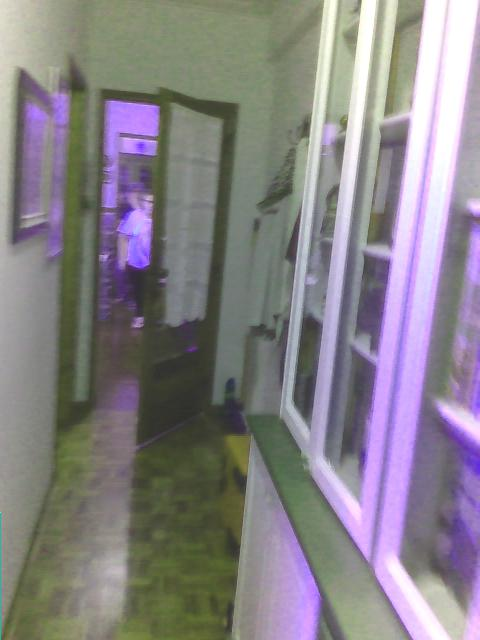semi_door: (85, 85, 242, 448)
